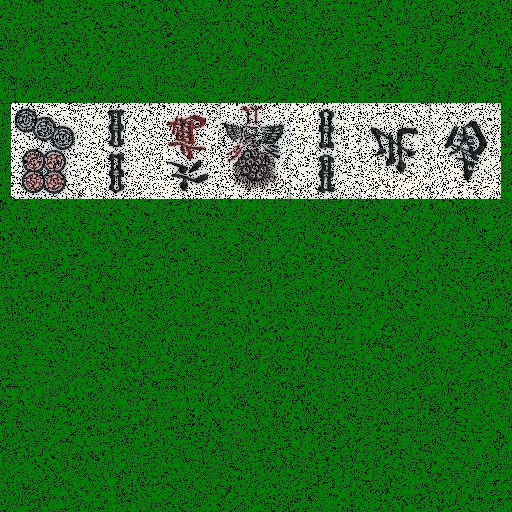1s: (221, 103, 291, 199)
2s: (81, 103, 151, 199), (291, 103, 361, 199)
6m: (151, 103, 221, 199)
7p: (11, 103, 81, 199)
north: (361, 103, 431, 199)
south: (431, 103, 501, 199)
